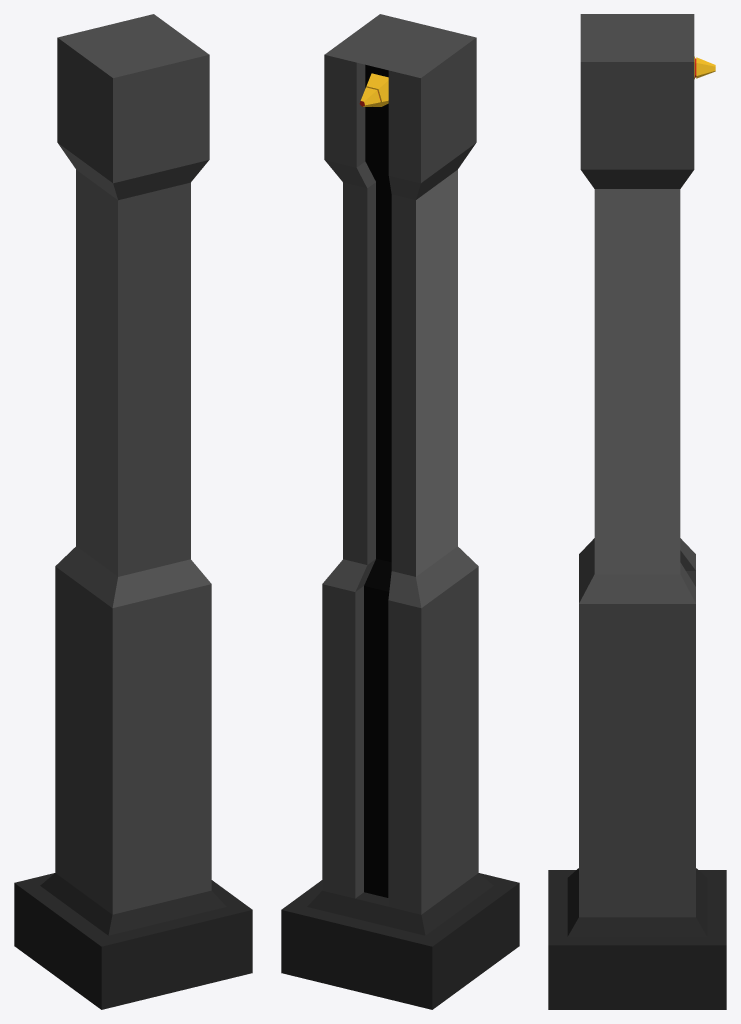
The model's file is Laser trap.fbx.
3 renders of one model, left to right at view 1: azimuth 30°, elevation 25°; view 2: azimuth 150°, elevation 25°; view 3: azimuth 270°, elevation 25°, orthographic. The views are drawn at different scales.
Visible parts, largest first — view 1: Tower; view 2: Tower, Laser; view 3: Tower.
Boxes of the visible parts, x1,y1,x2,y2 form: Tower: (14, 14, 252, 1009); Tower: (281, 14, 519, 1009); Laser: (359, 73, 388, 106); Tower: (548, 14, 726, 1009).
Size of the model in its own units: 25 by 25 by 144.
